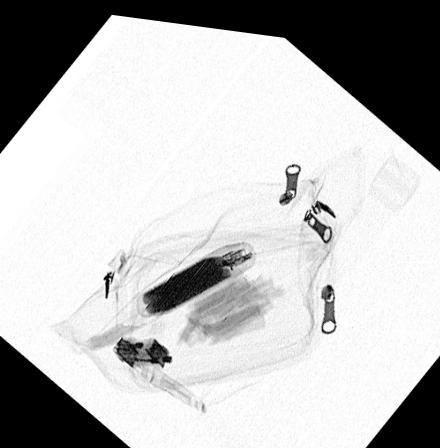Powerbank: (133, 234, 259, 315)
